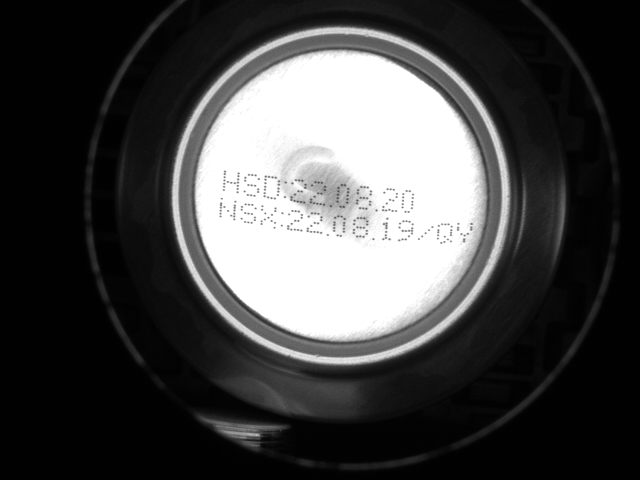/: (416, 222, 438, 246)
0: (398, 190, 420, 214), (335, 178, 351, 209), (332, 215, 347, 243)
1: (379, 217, 392, 245)
2: (306, 211, 326, 239), (289, 176, 307, 205), (286, 207, 304, 236), (309, 178, 327, 206), (381, 187, 397, 212)
8: (352, 215, 370, 244), (356, 183, 373, 211)
9: (397, 218, 414, 245)
D: (262, 175, 283, 199)
H: (221, 168, 241, 195)
N: (219, 198, 238, 223)
Q: (437, 223, 455, 247)
S: (243, 170, 262, 199), (240, 202, 257, 230)
X: (260, 205, 278, 230)
Y: (457, 219, 475, 246)
